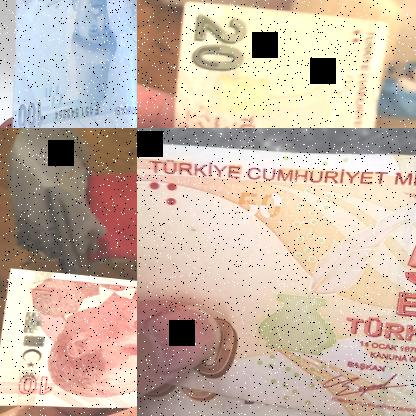5 TL: (11, 0, 136, 127)
